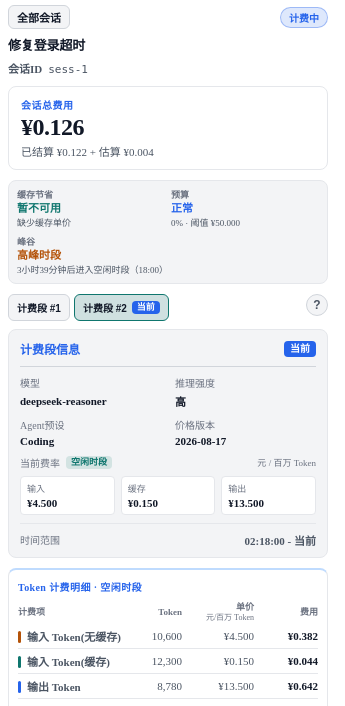
Test: overlay visual contract › renders native session stages in tabs and keeps totals outside the selected stage
Expected: the element named "计费分段" is shown, [8,294,169,321]
Expected: the element "计费段信息" is shown, [20,343,80,357]
Click the tab "计费段 #1": point(39, 307) [8,294,70,321]
(page scrolled)
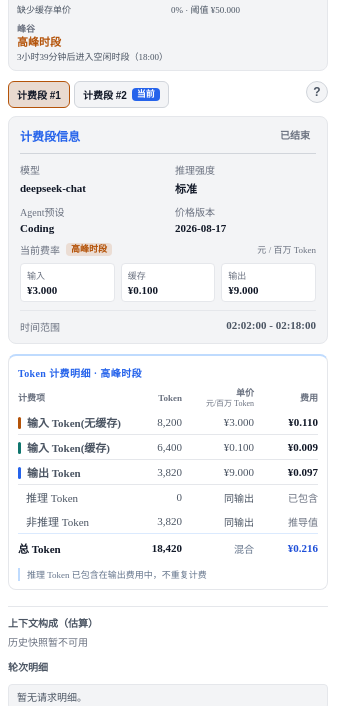
Expected: the element "计费段信息" shows "模型", [20,165,40,176]
Result: the element "计费段信息" shows "deepseek-chat" at [20,182,86,194]
Result: the text "历史快照暂不可用" is shown at [8,637,88,648]
